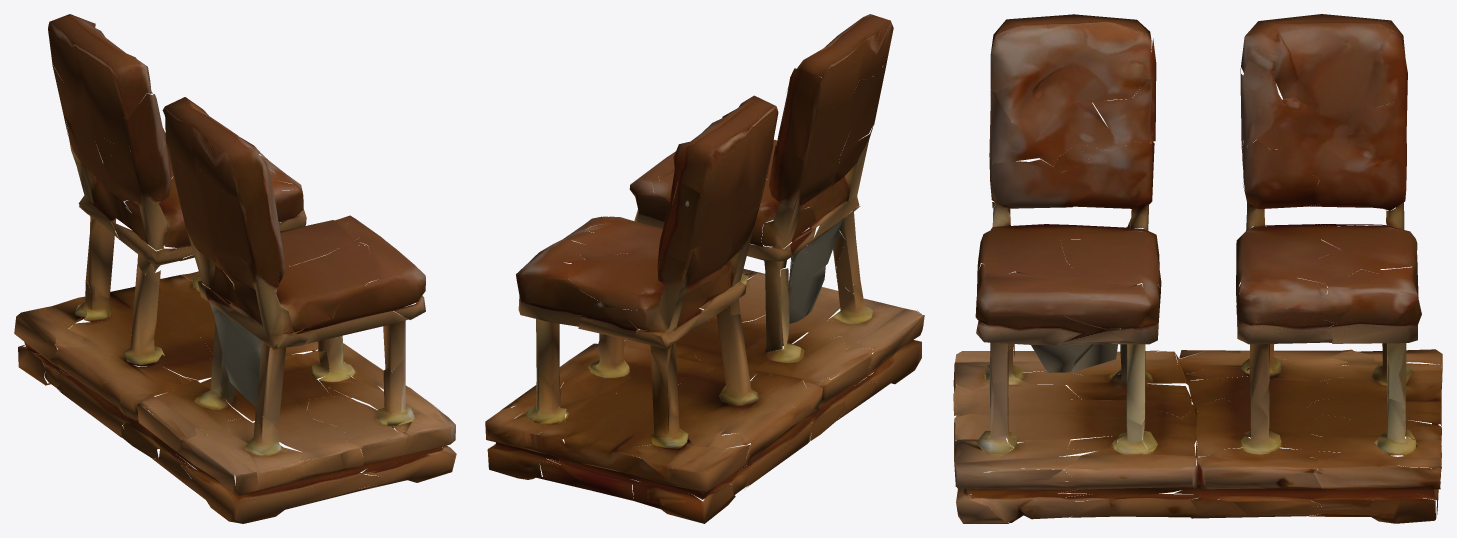
File: penn_shoeshine.glb
3 renders of one model, left to right at view 1: azimuth 30°, elevation 25°; view 2: azimuth 150°, elevation 25°; view 3: azimuth 270°, elevation 25°, orthographic. The views are drawn at different scales.
Visible parts, largest first — view 1: tripo_node_cf46bf76-cfae-4eec-95e8-d6904cfe4683; view 2: tripo_node_cf46bf76-cfae-4eec-95e8-d6904cfe4683; view 3: tripo_node_cf46bf76-cfae-4eec-95e8-d6904cfe4683.
Boxes of the visible parts, <box> form: tripo_node_cf46bf76-cfae-4eec-95e8-d6904cfe4683: <box>14,14,456,523</box>; tripo_node_cf46bf76-cfae-4eec-95e8-d6904cfe4683: <box>485,14,924,523</box>; tripo_node_cf46bf76-cfae-4eec-95e8-d6904cfe4683: <box>953,14,1442,523</box>.
Size of the model in its own units: 0.5841 by 0.9012 by 1.
Materials: 1 (1 with a texture image).
